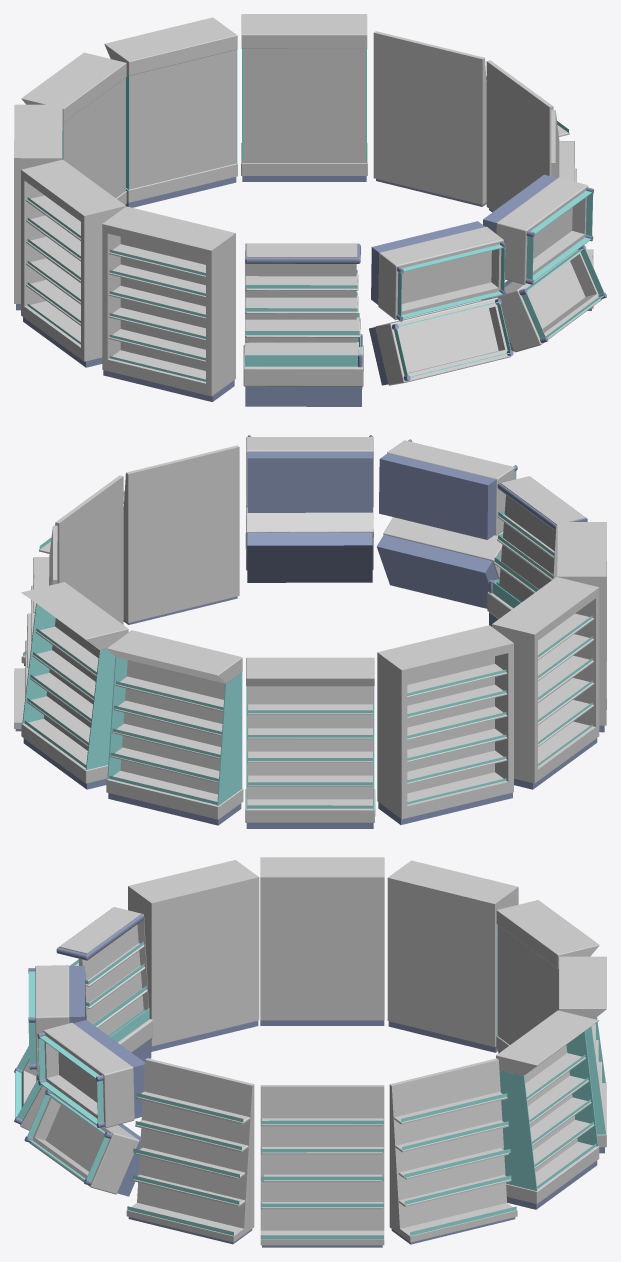
Rendered from hew7.glb.
3 renders of one model, top to bottom at view 1: azimuth 30°, elevation 25°; view 2: azimuth 150°, elevation 25°; view 3: azimuth 270°, elevation 25°, orthographic. The views are drawn at different scales.
Parts seen in each view (by area): view 1: Cube.015, Cube.044, Cube.172, Cube.088, Cube.053, Cube.003, Cube.054, Cube.074, Cube.032, Cube.009, Cube.061, Cube.177 (+29 smaller); view 2: Cube.021, Cube.037, Cube.061, Cube.053, Cube.088, Cube.031, Cube.002, Cube.074, Cube.008, Cube.046, Cube.044, Cube.071 (+40 smaller); view 3: Cube.053, Cube.044, Cube.037, Cube.074, Cube.015, Cube.021, Cube.032, Cube.009, Cube.061, Cube.154, Cube.071, Cube.172 (+36 smaller).
Part boxes in pixels (x1,y1,x2,y2): Cube.015: (373,31,486,204); Cube.044: (102,206,235,396); Cube.172: (241,49,367,175); Cube.088: (126,50,237,202); Cube.053: (21,159,125,361); Cube.003: (378,226,503,320); Cube.054: (375,297,511,385); Cube.074: (486,60,586,243); Cube.032: (496,177,588,284); Cube.009: (491,249,602,352); Cube.061: (64,78,126,204); Cube.177: (241,14,367,48); Cube.021: (123,445,239,622); Cube.037: (377,625,513,819); Cube.061: (245,686,375,822); Cube.053: (492,577,599,783); Cube.088: (106,660,243,819); Cube.031: (247,451,372,512); Cube.002: (379,453,496,539); Cube.074: (21,475,123,663); Cube.008: (247,532,372,582); Cube.046: (376,534,498,608); Cube.044: (557,522,606,725); Cube.071: (246,657,374,686); Cube.053: (260,857,384,1020); Cube.044: (128,860,259,1046); Cube.037: (387,860,518,1047); Cube.074: (260,1085,384,1245); Cube.015: (389,1058,517,1242); Cube.021: (126,1058,254,1242); Cube.032: (43,1022,134,1127); Cube.009: (29,1093,139,1194); Cube.061: (496,925,557,1051); Cube.154: (79,924,143,1035); Cube.071: (496,900,599,968); Cube.172: (506,1045,599,1203).
Size of the model in its own units: 6 by 1.75 by 6.25.
